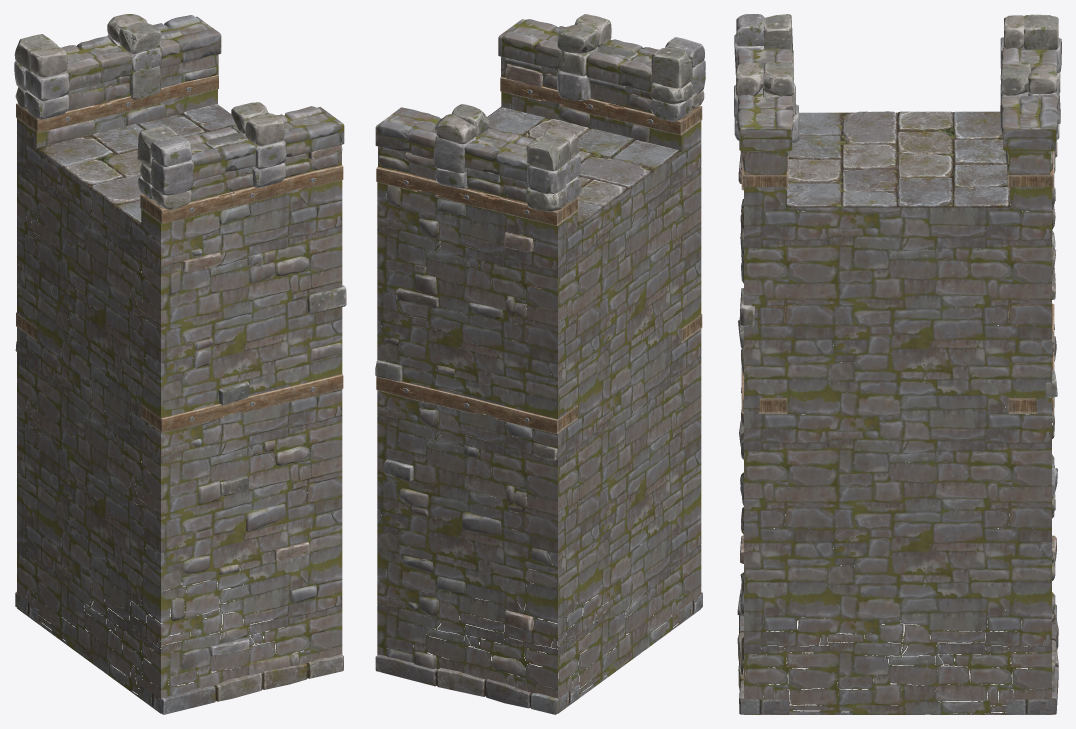
3 renders of one model, left to right at view 1: azimuth 30°, elevation 25°; view 2: azimuth 150°, elevation 25°; view 3: azimuth 270°, elevation 25°, orthographic. The views are drawn at different scales.
Visible parts, largest first — view 1: SM_Castle_Wall_4x12_01_v7_LOD0; view 2: SM_Castle_Wall_4x12_01_v7_LOD0; view 3: SM_Castle_Wall_4x12_01_v7_LOD0.
Part boxes in pixels (<box>): SM_Castle_Wall_4x12_01_v7_LOD0: <box>14,14,346,714</box>; SM_Castle_Wall_4x12_01_v7_LOD0: <box>375,14,705,714</box>; SM_Castle_Wall_4x12_01_v7_LOD0: <box>734,14,1061,714</box>.
Size of the model in its own units: 4.13 by 11.96 by 5.85.
Materials: 6 (6 with a texture image).
